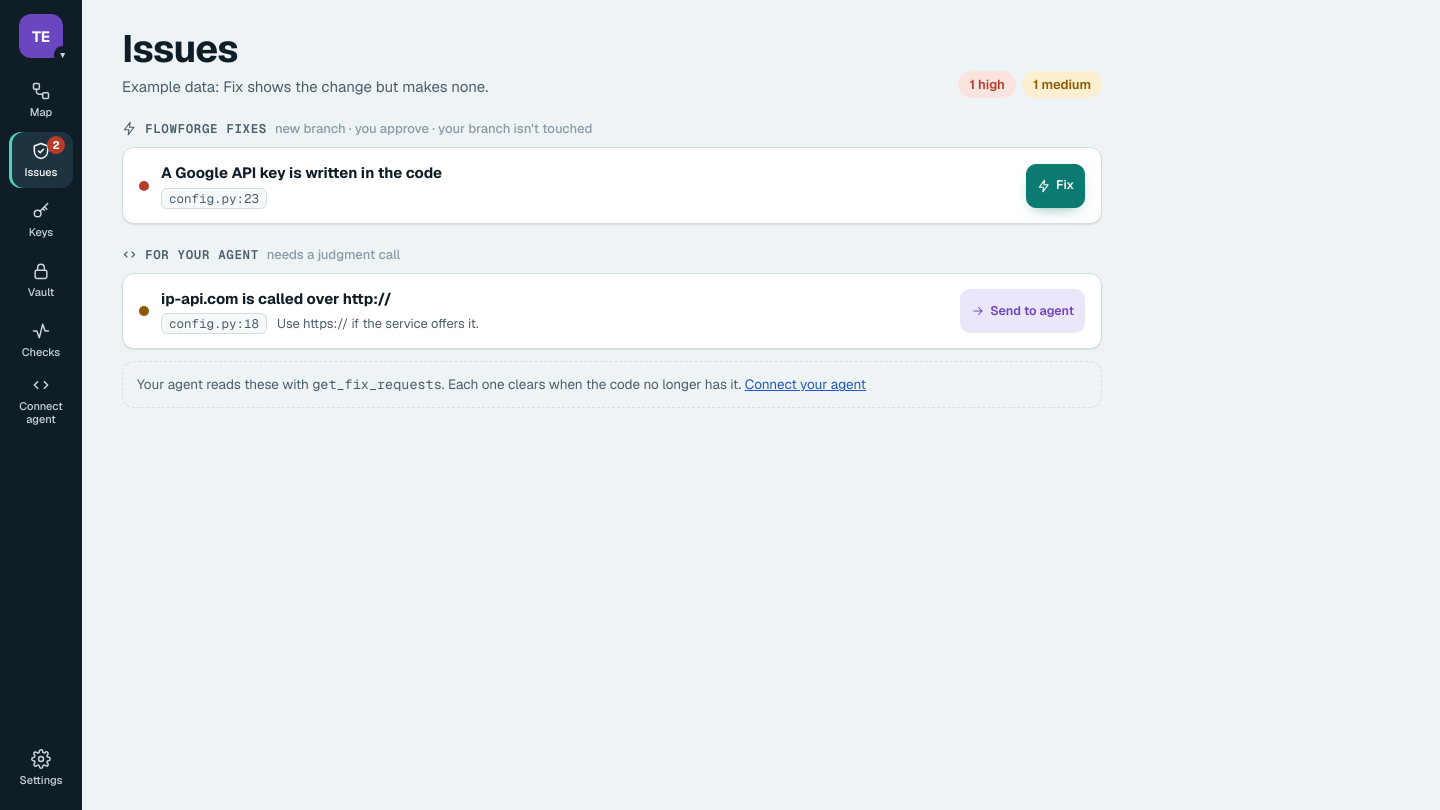
Test: example data shows the change but Approve stays off
Click the button "Fix" at (1056, 186), box [1026,164,1085,208]
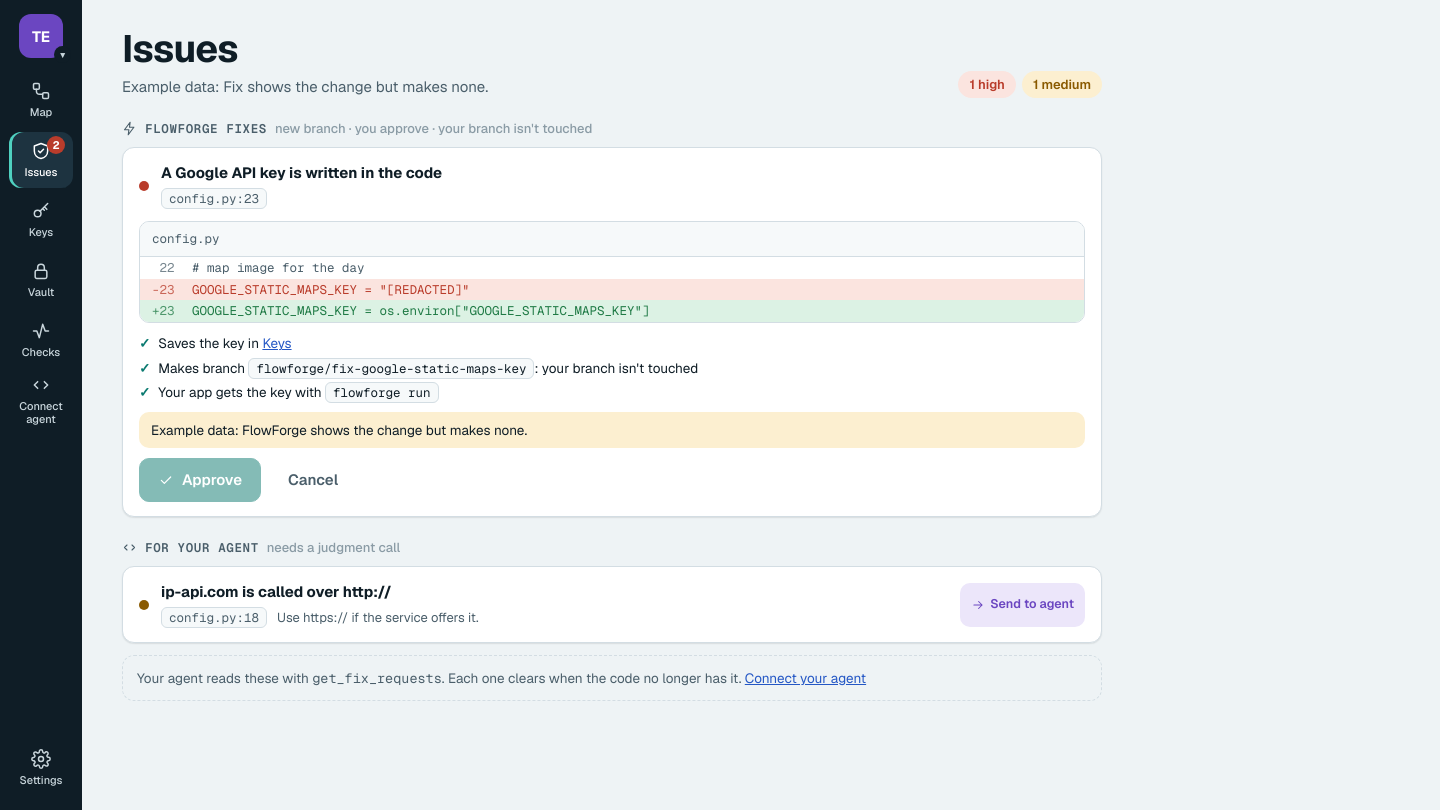
Now the button "Approve" is disabled, box [139,458,261,502]
